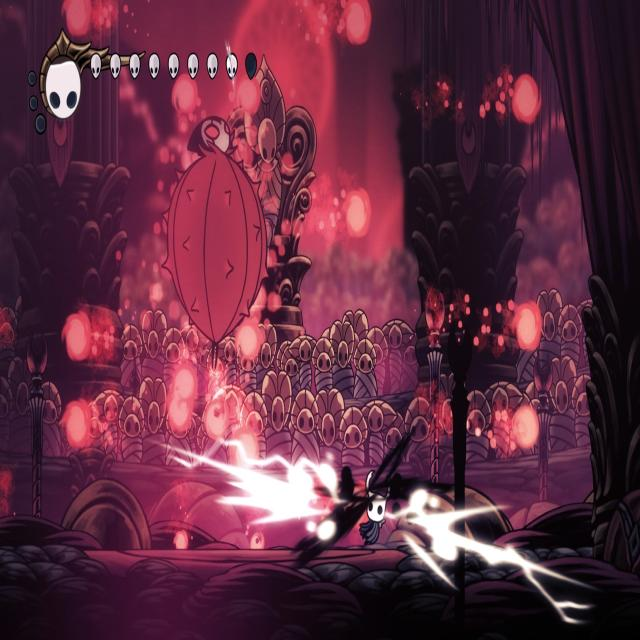Player: (355, 471, 389, 555)
Pufferfish: (156, 112, 271, 374)
Tiny Fireballs: (167, 364, 197, 434), (62, 312, 92, 362), (513, 76, 542, 126), (515, 302, 543, 352), (512, 405, 540, 454), (64, 400, 90, 450), (345, 190, 370, 238), (345, 0, 371, 45), (64, 0, 92, 41), (171, 74, 199, 115), (237, 319, 263, 362), (168, 395, 194, 436), (205, 398, 229, 441), (238, 79, 261, 116)
